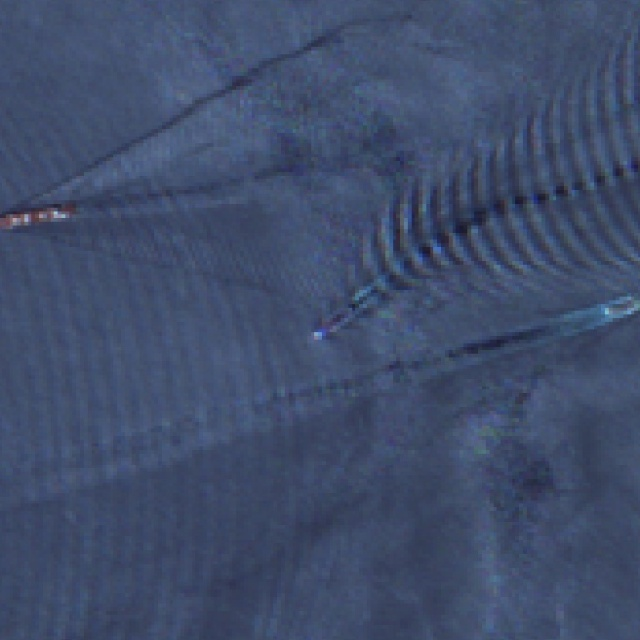wake: (257, 123, 559, 404)
